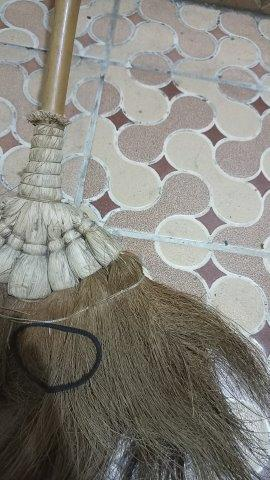karet: (11, 322, 101, 393)
